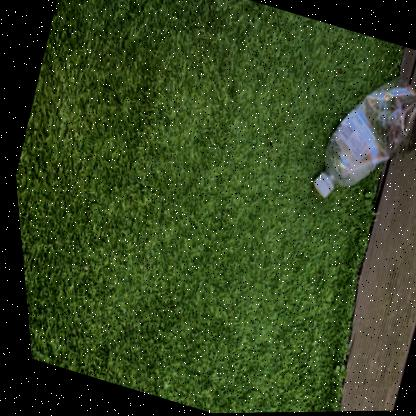Plastic: (310, 79, 416, 198)
